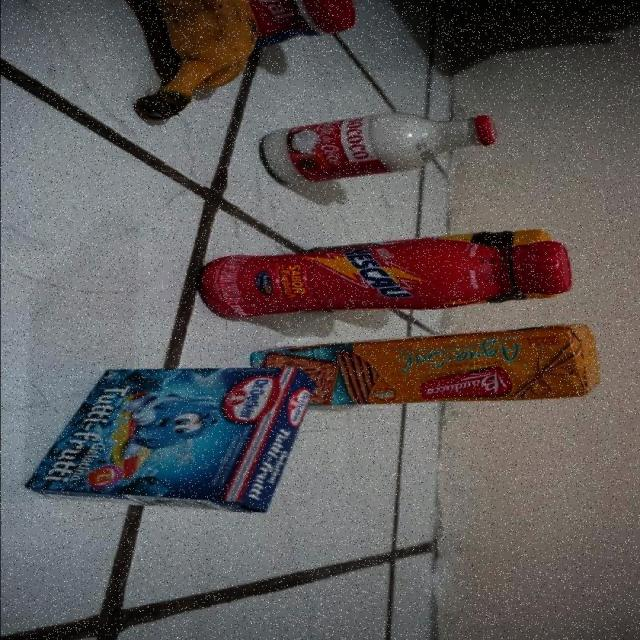Banana: (128, 0, 260, 122)
ChocolateMilk: (228, 243, 566, 318)
ChocolatePowder: (458, 226, 546, 246)
CoconutMilk: (279, 111, 498, 188)
Cracker: (316, 326, 606, 406)
Gelatine: (22, 366, 319, 509)
Yeast: (256, 0, 356, 49)
